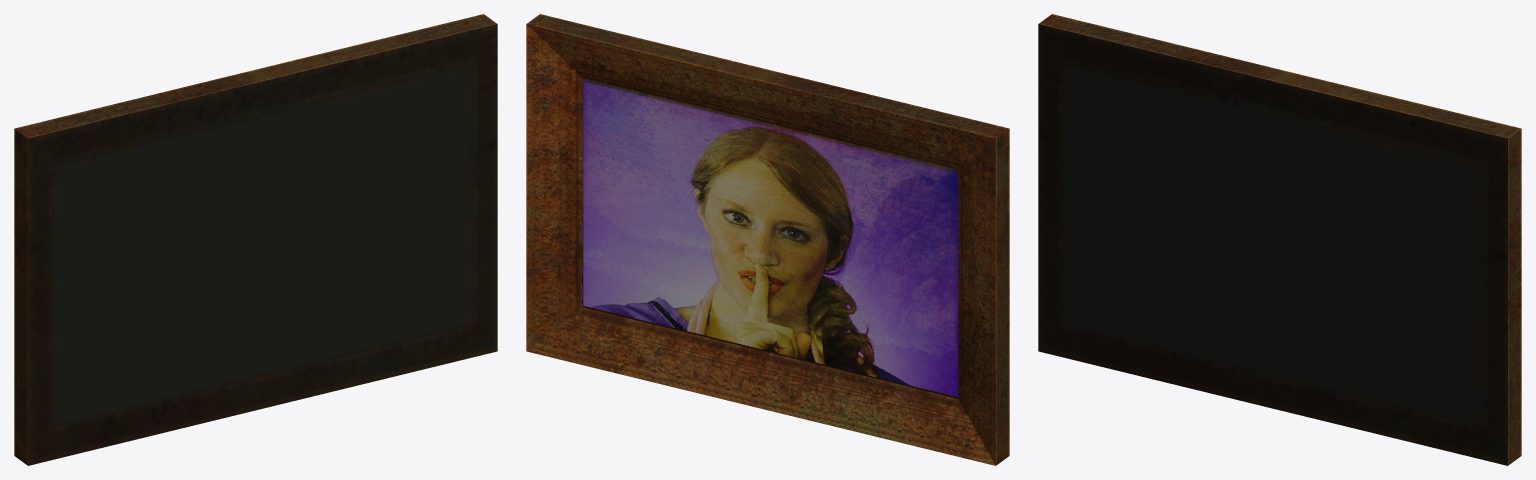
File: nurse.dae
3 renders of one model, left to right at view 1: azimuth 30°, elevation 25°; view 2: azimuth 150°, elevation 25°; view 3: azimuth 330°, elevation 25°, orthographic.
Parts seen in each view (by area): view 1: Painting01_PIVOT; view 2: Painting01_PIVOT; view 3: Painting01_PIVOT.
Part boxes in pixels (x1,y1,x2,y2): Painting01_PIVOT: (14,14,497,465); Painting01_PIVOT: (526,14,1009,465); Painting01_PIVOT: (1038,14,1521,465).
Size of the model in its own units: 0.6 by 0.0302 by 0.4.
